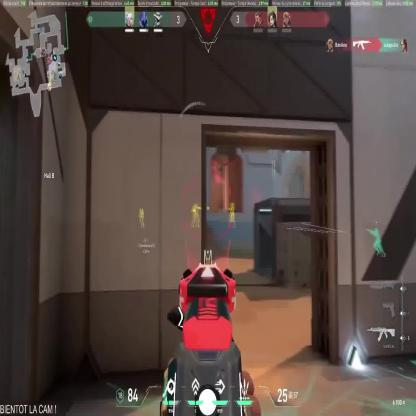enemy: (191, 203, 202, 228), (228, 201, 236, 229), (139, 206, 144, 227)
enemy_head: (230, 202, 235, 208), (194, 203, 198, 208), (140, 208, 142, 212)
